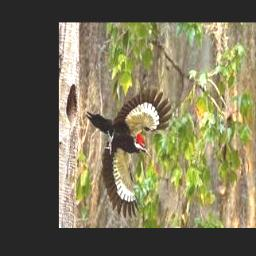Woodpecker: (86, 87, 175, 216)
